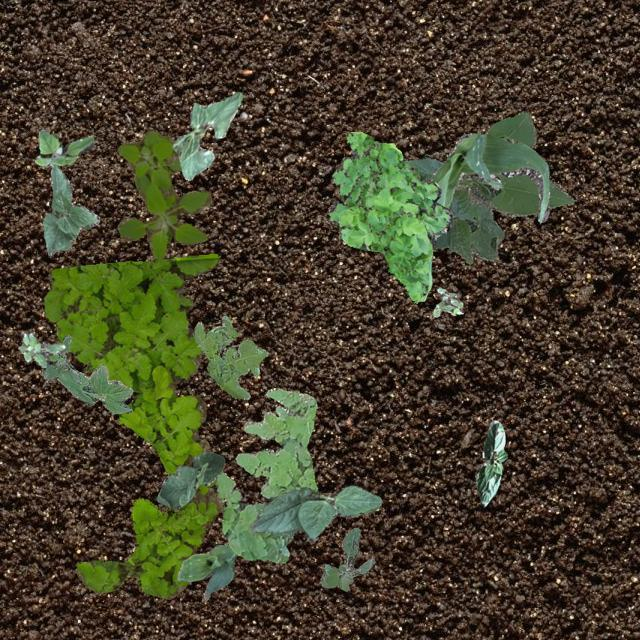crop: (402, 110, 574, 262), (428, 134, 548, 222), (248, 484, 380, 542), (172, 90, 242, 180), (42, 162, 98, 255), (156, 451, 223, 508), (56, 362, 132, 412), (176, 544, 236, 598), (474, 420, 506, 506)
weed: (42, 252, 222, 598), (328, 130, 452, 302), (215, 388, 318, 562), (117, 130, 210, 258), (192, 314, 268, 398), (320, 526, 374, 590), (34, 128, 94, 166), (40, 333, 80, 382), (17, 332, 64, 366), (432, 286, 462, 316)
